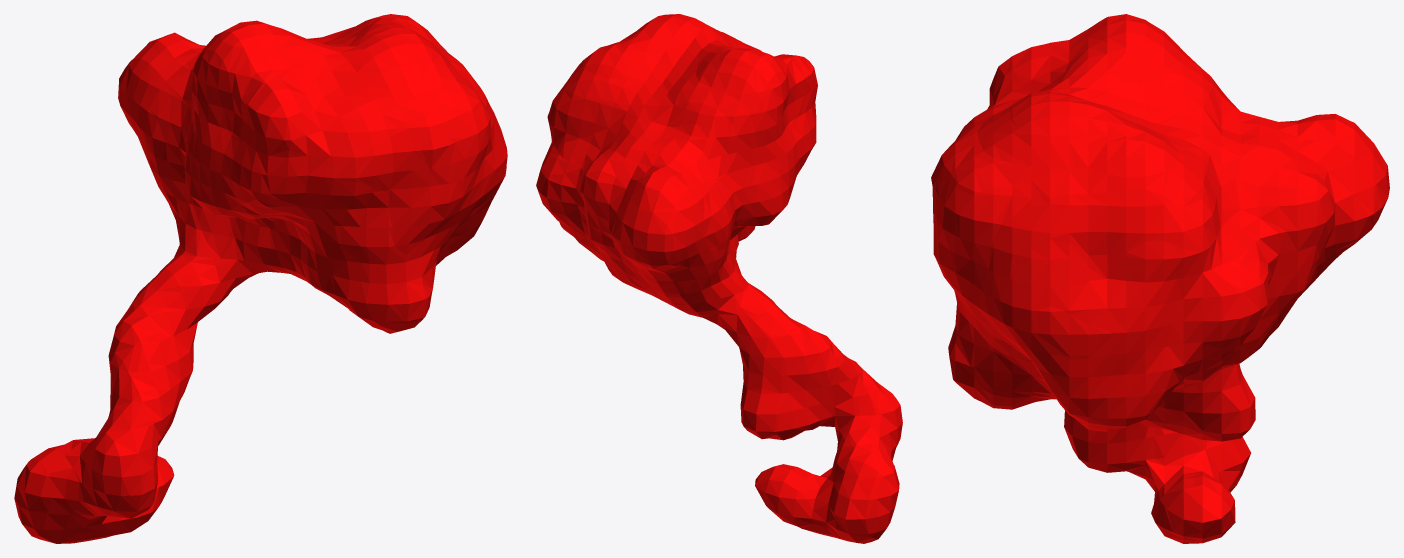
Rendered from cdh_coarse.dae.
The picture shows the model from 3 angles, left to right: view 1: azimuth 30°, elevation 25°; view 2: azimuth 150°, elevation 25°; view 3: azimuth 270°, elevation 25°; orthographic projection. The views are drawn at different scales.
Parts seen in each view (by area): view 1: cdh; view 2: cdh; view 3: cdh.
Part boxes in pixels (box(x1,y1,x2,y2)): cdh: box(14, 14, 507, 543); cdh: box(536, 14, 902, 543); cdh: box(931, 14, 1389, 543).
Size of the model in its own units: 66.76 by 76.31 by 54.73.
